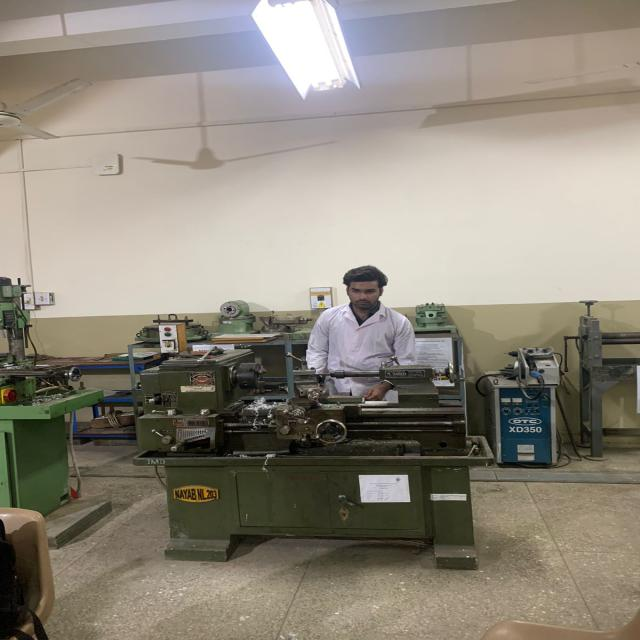labcoat: (301, 296, 419, 406)
